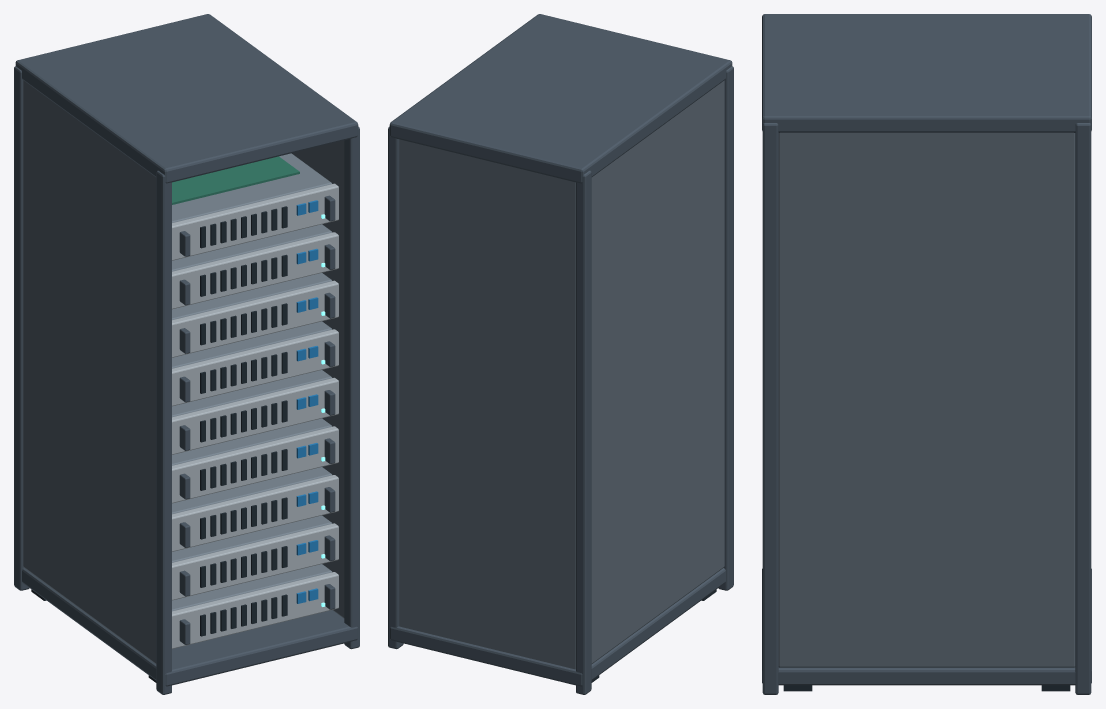
The model's file is server-rack.glb.
3 renders of one model, left to right at view 1: azimuth 30°, elevation 25°; view 2: azimuth 150°, elevation 25°; view 3: azimuth 270°, elevation 25°, orthographic. The views are drawn at different scales.
Parts seen in each view (by area): view 1: enclosure_Cabinet_panels, rack_frame_Graphite_steel, part_server_09, part_server_02, part_server_04, part_server_08, part_server_01, part_server_03, part_server_05, part_server_06, part_server_07; view 2: enclosure_Cabinet_panels, rack_frame_Graphite_steel; view 3: enclosure_Cabinet_panels, rack_frame_Graphite_steel.
Boxes of the visible parts, x1,y1,x2,y2 form: enclosure_Cabinet_panels: (23, 80, 344, 663); rack_frame_Graphite_steel: (14, 14, 359, 694); part_server_09: (172, 153, 338, 260); part_server_02: (172, 515, 338, 600); part_server_04: (172, 418, 338, 503); part_server_08: (172, 224, 338, 309); part_server_01: (172, 564, 338, 648); part_server_03: (172, 467, 338, 551); part_server_05: (172, 370, 338, 454); part_server_06: (172, 321, 338, 406); part_server_07: (172, 273, 338, 357); enclosure_Cabinet_panels: (399, 80, 724, 669); rack_frame_Graphite_steel: (388, 14, 733, 694); enclosure_Cabinet_panels: (778, 132, 1075, 667); rack_frame_Graphite_steel: (762, 14, 1091, 694).
Bounding box in the file's own units: 0.875 × 2.22 × 1.15.
